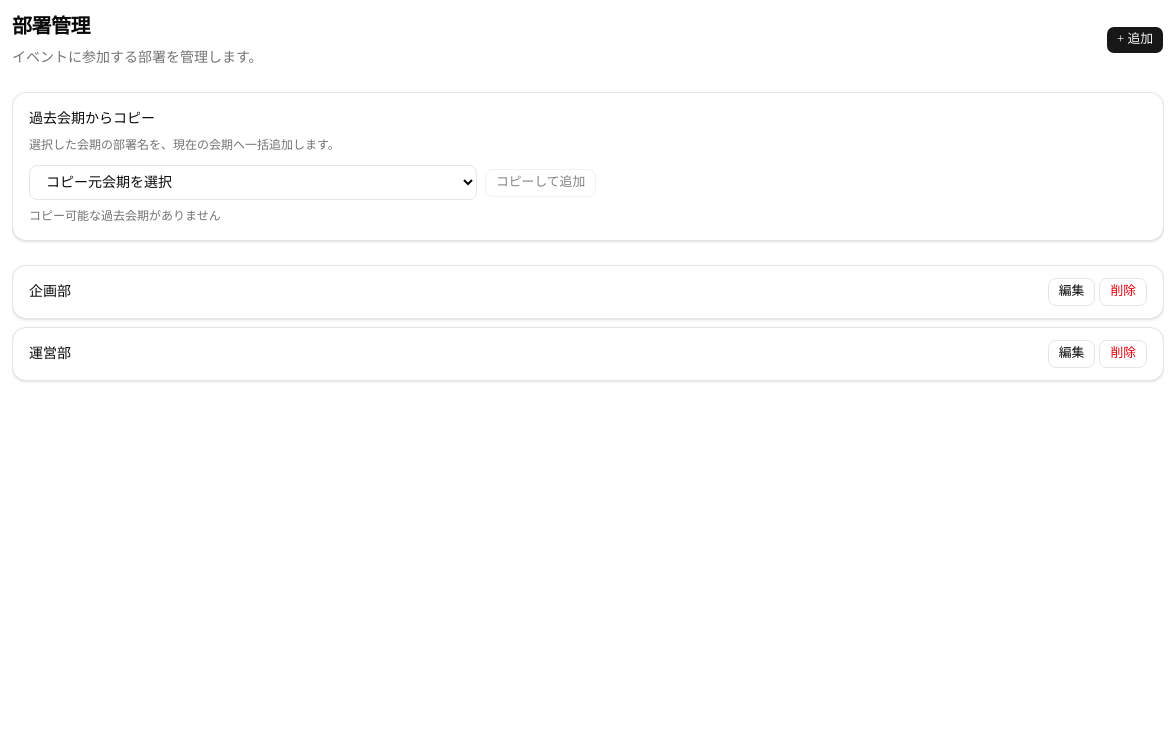
Scenario: DepartmentAdminPanel › + 追加 ボタンクリックでフォームを表示する
The image size is (1176, 732).
Step 1. Click the button "+ 追加" → (1135, 40), box [1106,26,1164,54]
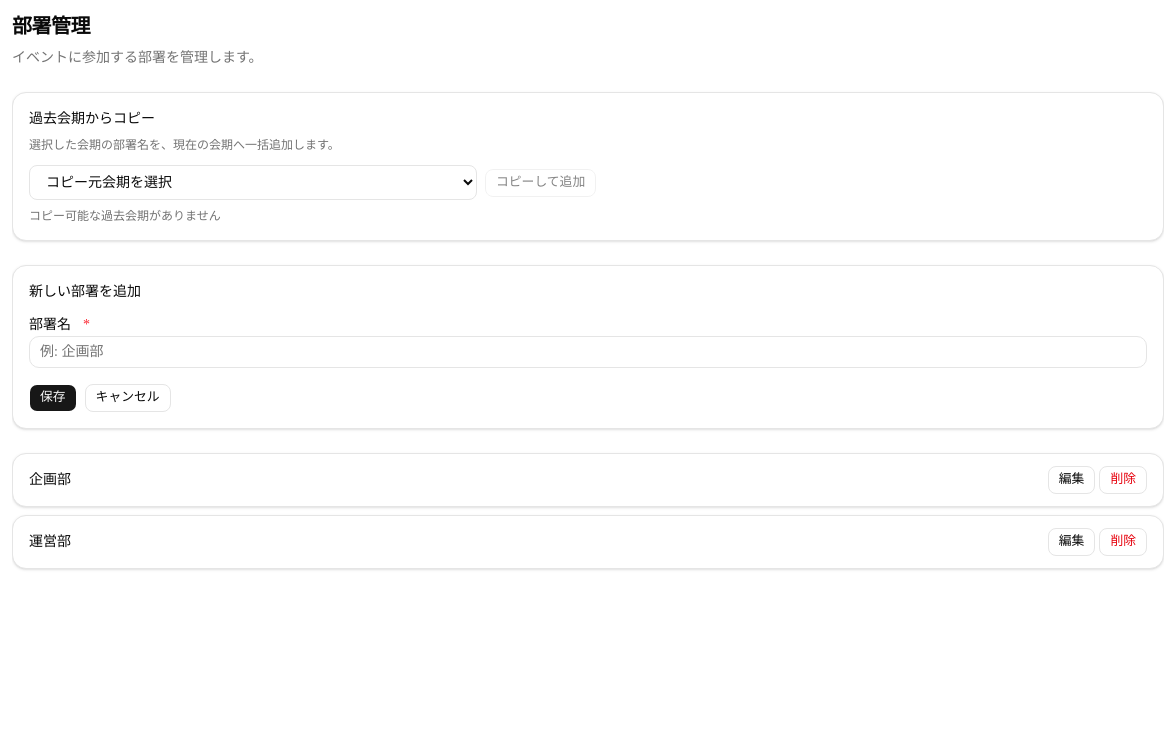
Check: the heading "新しい部署を追加" is shown, box [29,284,141,299]
Check: the field labelled "部署名 *" is shown, box [29,336,1147,368]
